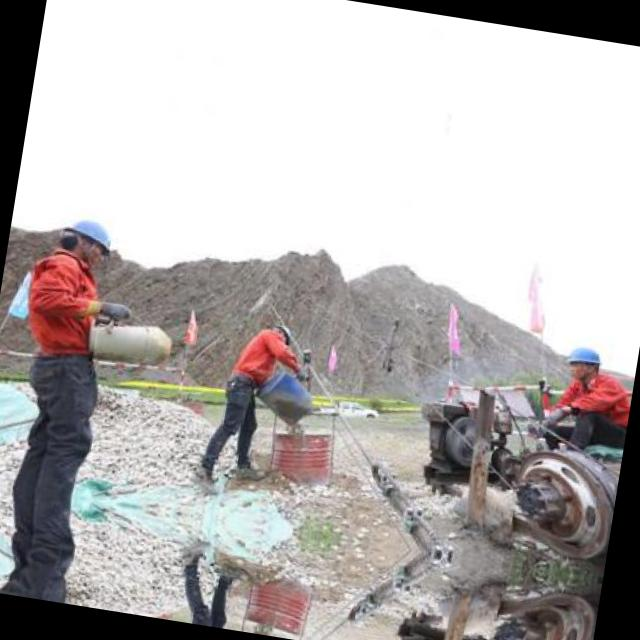helmet: (57, 207, 121, 273), (558, 338, 608, 384), (270, 320, 297, 349)
